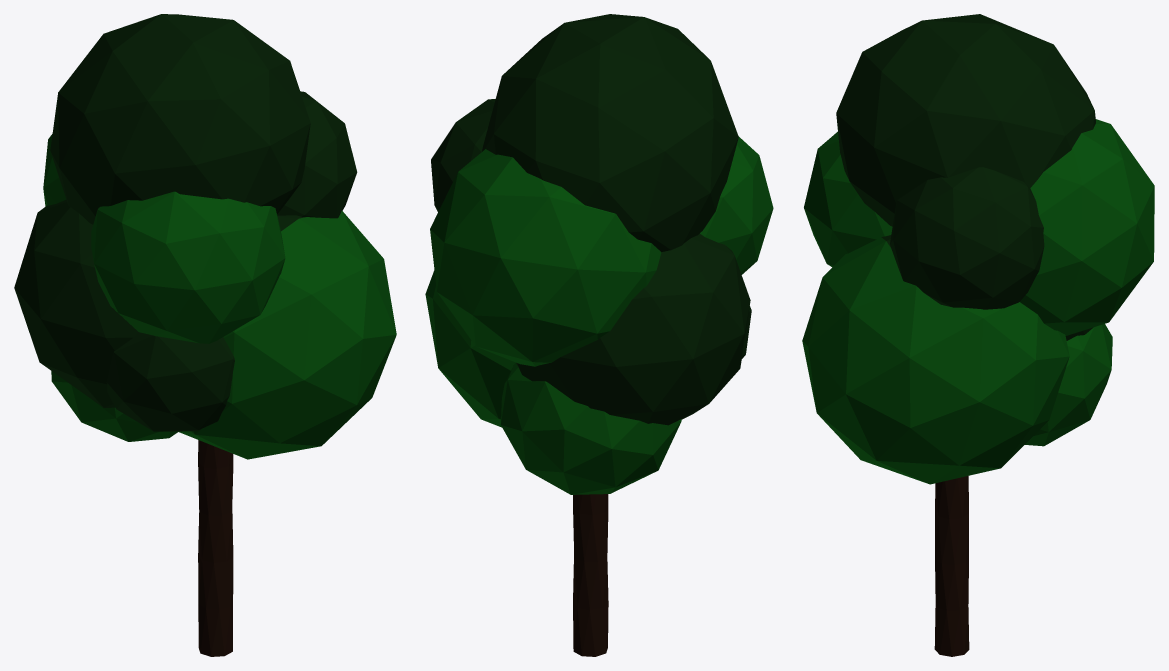
File: Tree05.fbx
The picture shows the model from 3 angles, left to right: view 1: azimuth 30°, elevation 25°; view 2: azimuth 150°, elevation 25°; view 3: azimuth 270°, elevation 25°; orthographic projection. The views are drawn at different scales.
Parts seen in each view (by area): view 1: Crown, Trunk; view 2: Crown, Trunk; view 3: Crown, Trunk.
Boxes of the visible parts, x1,y1,x2,y2 form: Crown: [14, 14, 396, 459]; Trunk: [198, 440, 233, 656]; Crown: [425, 14, 773, 494]; Trunk: [573, 494, 608, 656]; Crown: [802, 14, 1154, 484]; Trunk: [934, 476, 969, 656].
Size of the model in its own units: 186 by 353 by 184.
